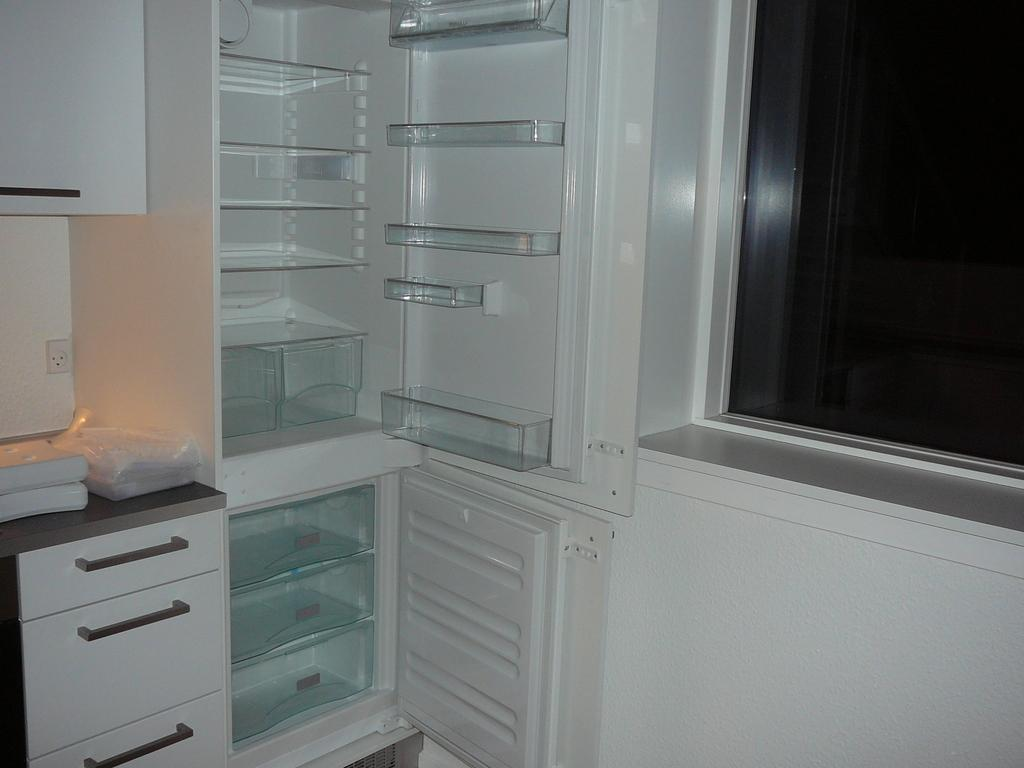cabinet_door: (34, 606, 220, 701), (14, 532, 224, 584), (39, 712, 215, 762)
handle: (87, 719, 195, 768), (77, 603, 191, 642), (73, 542, 199, 573)
